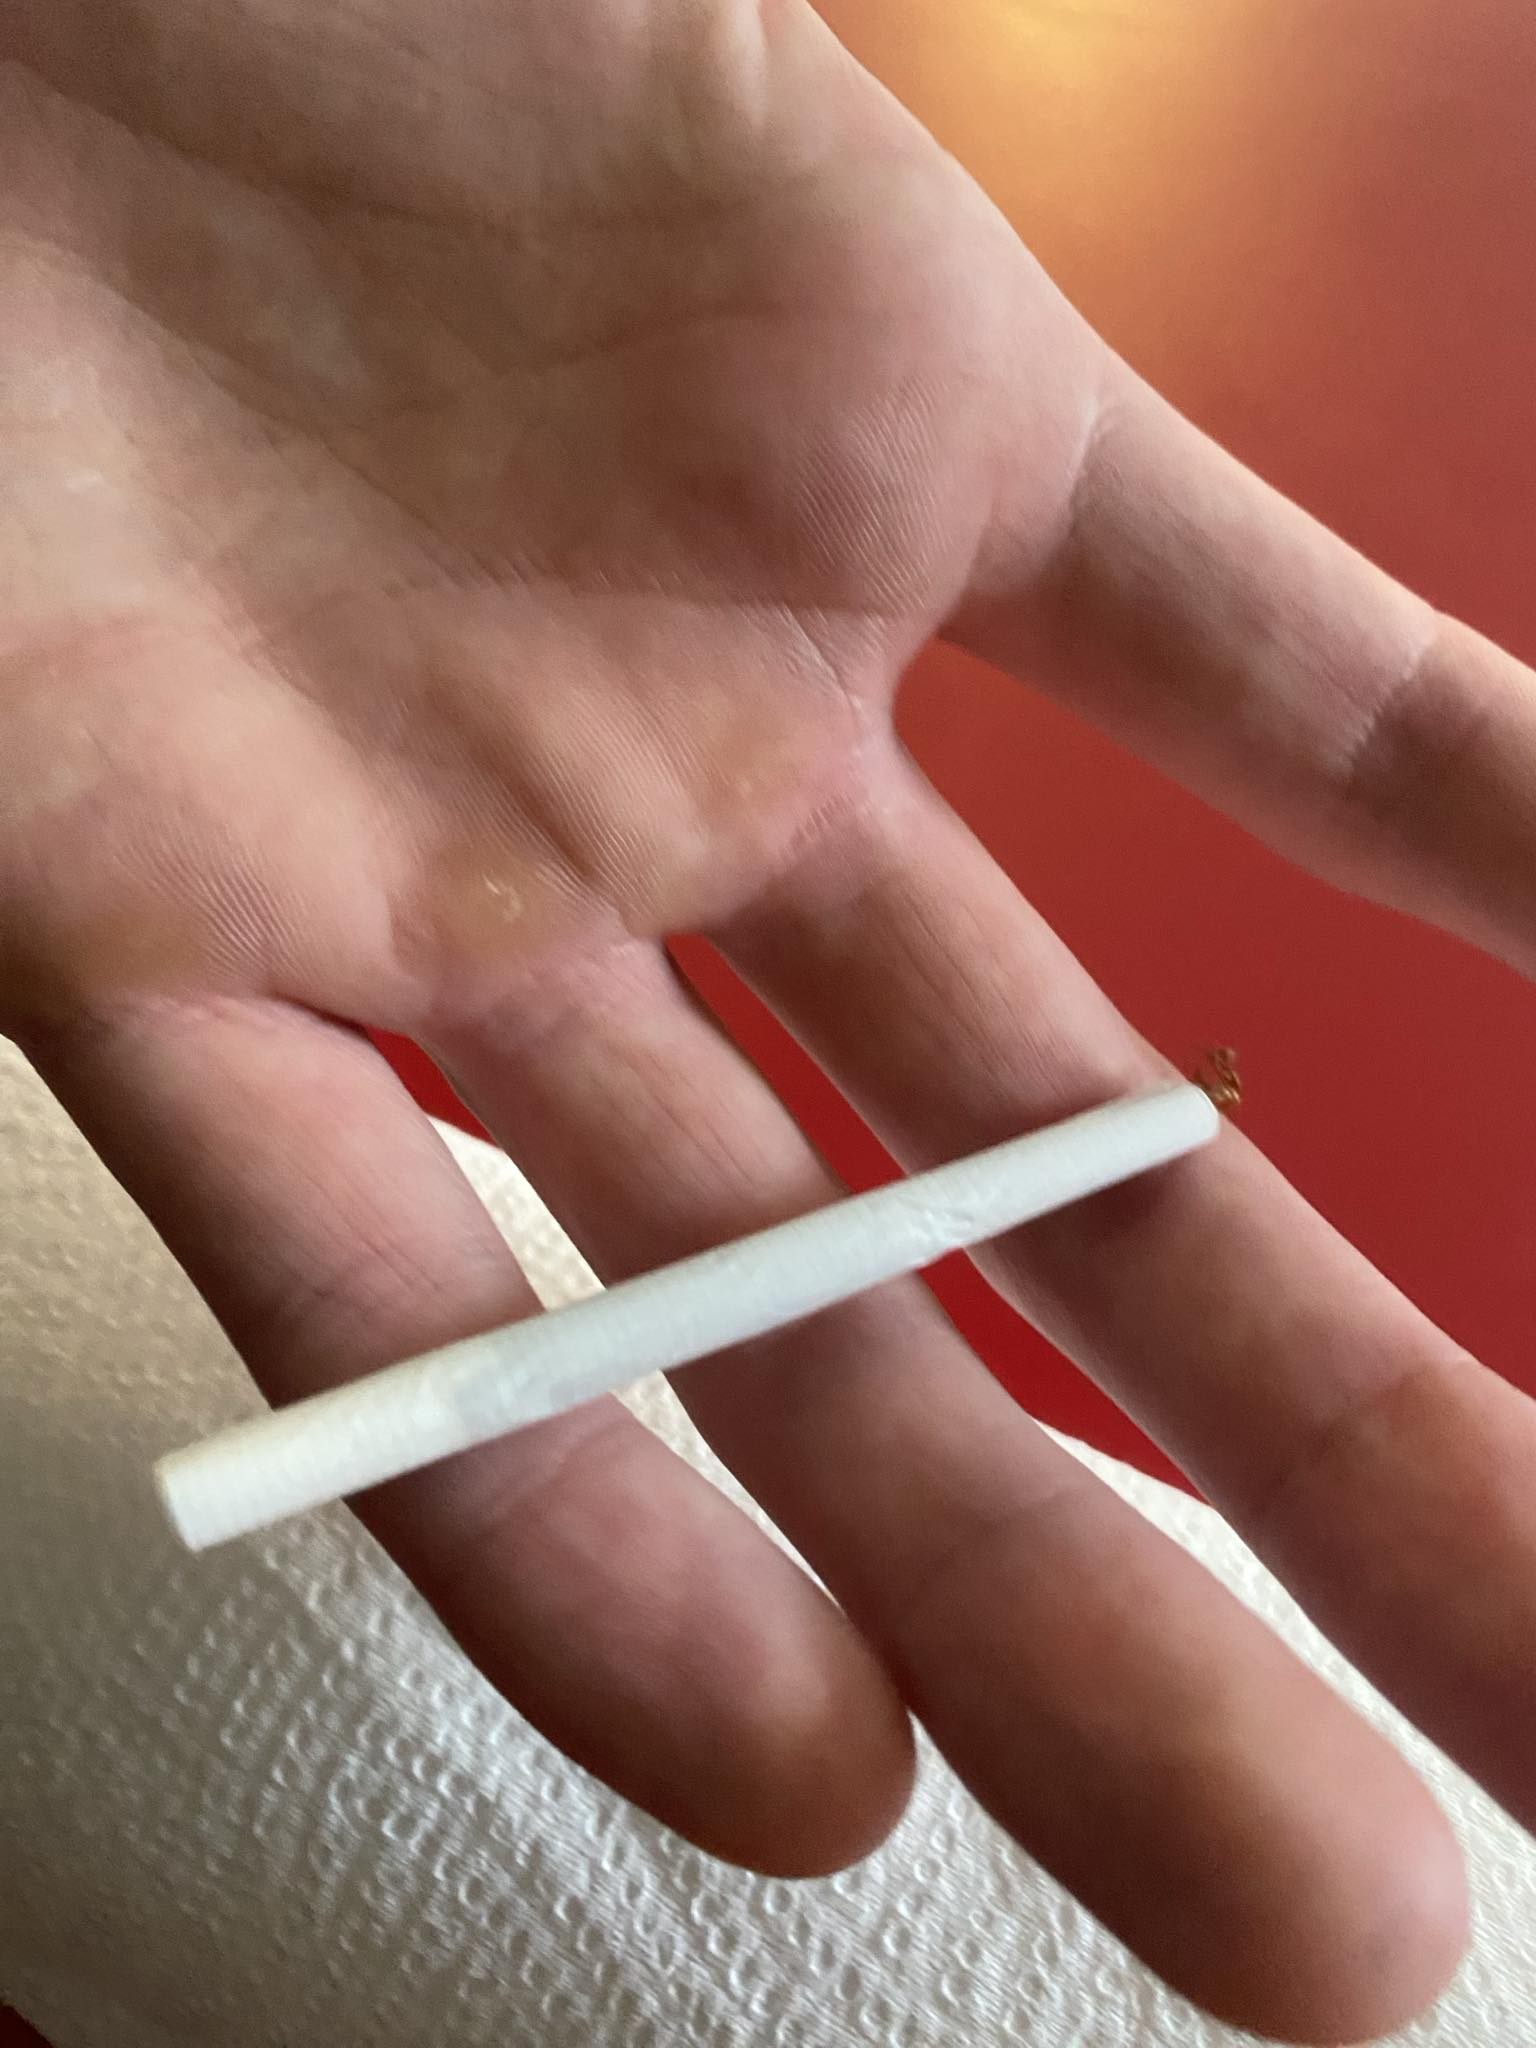Cigarette: (152, 1047, 1229, 1553)
